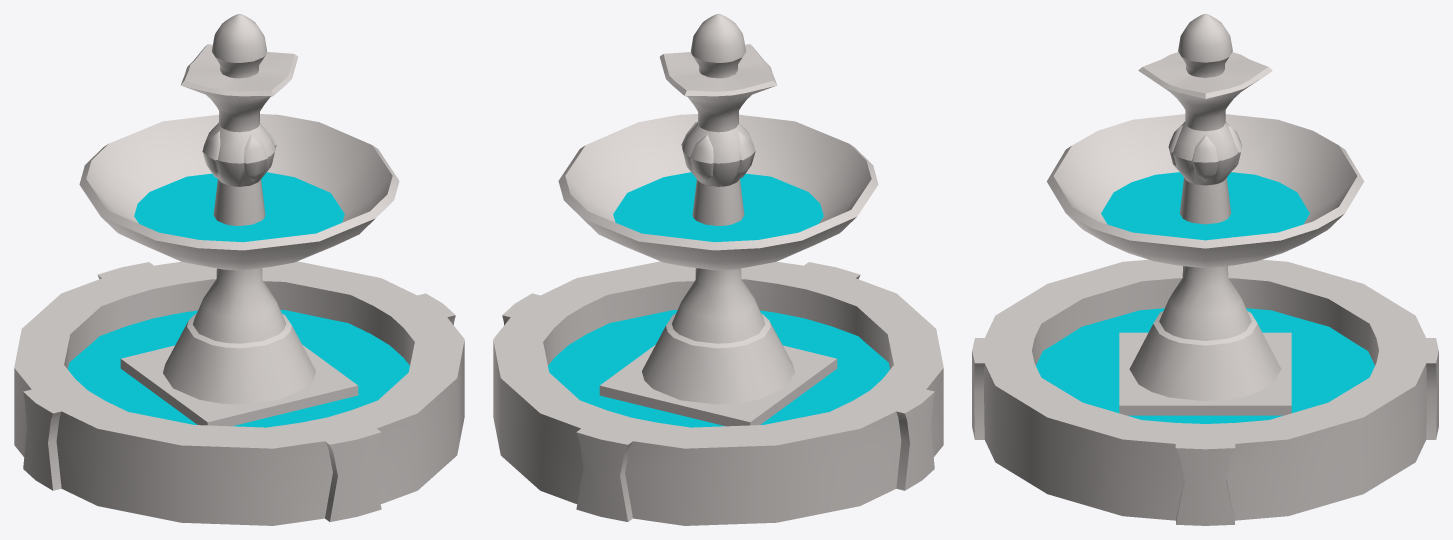
The model's file is fountain.fbx.
3 views of the same model, side by side, from view 1: azimuth 30°, elevation 25°; view 2: azimuth 150°, elevation 25°; view 3: azimuth 270°, elevation 25° (orthographic).
Visible parts, largest first — view 1: Cylinder, Water.001, Water; view 2: Cylinder, Water.001, Water; view 3: Cylinder, Water.001, Water.
Boxes of the visible parts, left/top/right/bottom form: Cylinder: left=14, top=14, right=464, bottom=525; Water.001: left=68, top=310, right=409, bottom=427; Water: left=134, top=172, right=344, bottom=242; Cylinder: left=493, top=14, right=943, bottom=525; Water.001: left=548, top=310, right=889, bottom=427; Water: left=613, top=172, right=823, bottom=242; Cylinder: left=972, top=14, right=1438, bottom=525; Water.001: left=1036, top=308, right=1374, bottom=423; Water: left=1101, top=172, right=1309, bottom=240.
Size of the model in its own units: 98.3 by 96.06 by 98.3.
